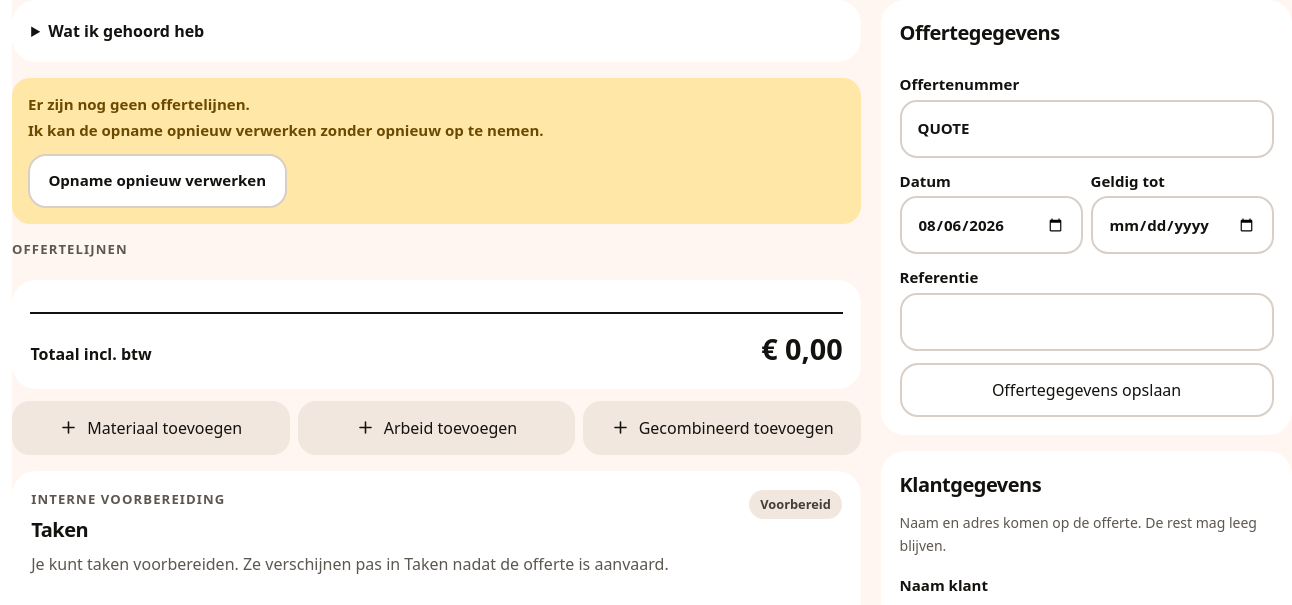
Test case: QuoteEditor › shows the new line item after adding it succeeds
This screenshot has width=1292, height=605.
Click the button "Materiaal toevoegen" at (151, 428), box x1=12 y1=401 x2=290 y2=455
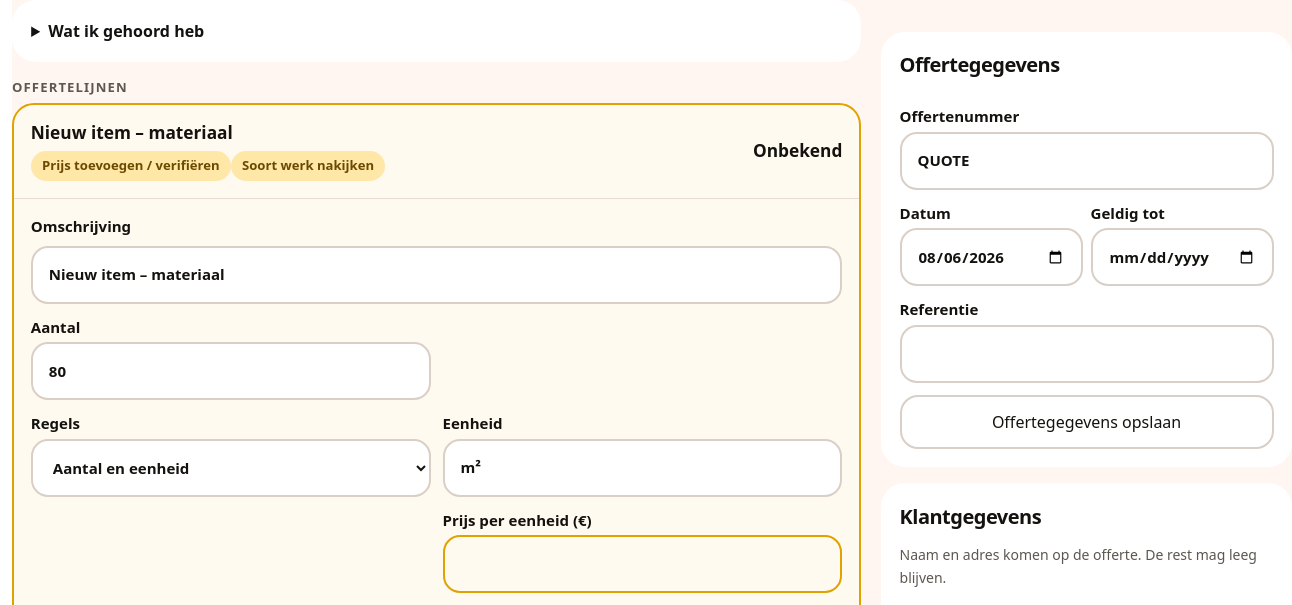
Expected: the field showing "Nieuw item – materiaal" is shown, x1=31 y1=246 x2=842 y2=304
